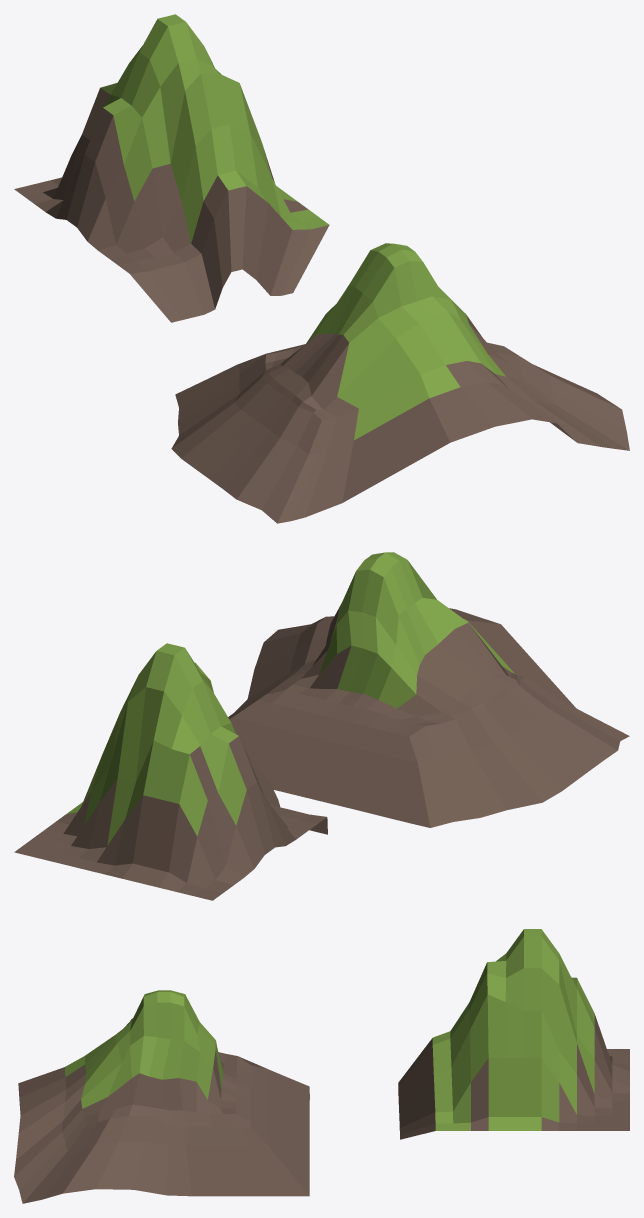
The model's file is bukitnyainiyabosss.fbx.
3 views of the same model, one above another, from view 1: azimuth 30°, elevation 25°; view 2: azimuth 150°, elevation 25°; view 3: azimuth 270°, elevation 25° (orthographic). The views are drawn at different scales.
Parts seen in each view (by area): view 1: Plane, Plane.001; view 2: Plane, Plane.001; view 3: Plane, Plane.001.
Part boxes in pixels (x1,y1,x2,y2): Plane: (171,243,629,523); Plane.001: (14,14,329,322); Plane: (228,552,629,827); Plane.001: (14,643,327,900); Plane: (14,990,309,1203); Plane.001: (398,929,629,1139).
Size of the model in its own units: 215 by 142 by 374.
